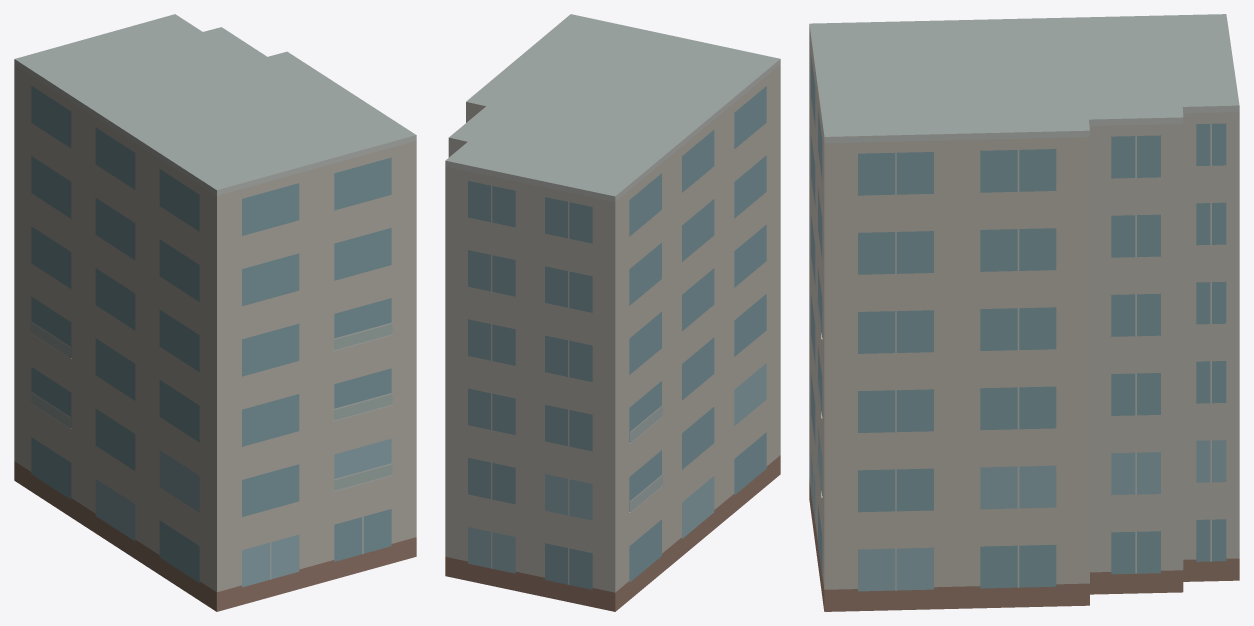
The model's file is survey-upis-32699163.glb.
3 views of the same model, side by side, from view 1: azimuth 30°, elevation 25°; view 2: azimuth 150°, elevation 25°; view 3: azimuth 270°, elevation 25° (orthographic). The views are drawn at different scales.
Parts seen in each view (by area): view 1: survey-upis-32699163.tmp; view 2: survey-upis-32699163.tmp; view 3: survey-upis-32699163.tmp.
Part boxes in pixels (x1,y1,x2,y2): survey-upis-32699163.tmp: (14, 14, 416, 611); survey-upis-32699163.tmp: (445, 14, 780, 611); survey-upis-32699163.tmp: (809, 14, 1239, 611).
Size of the model in its own units: 10 by 18 by 14.79.
